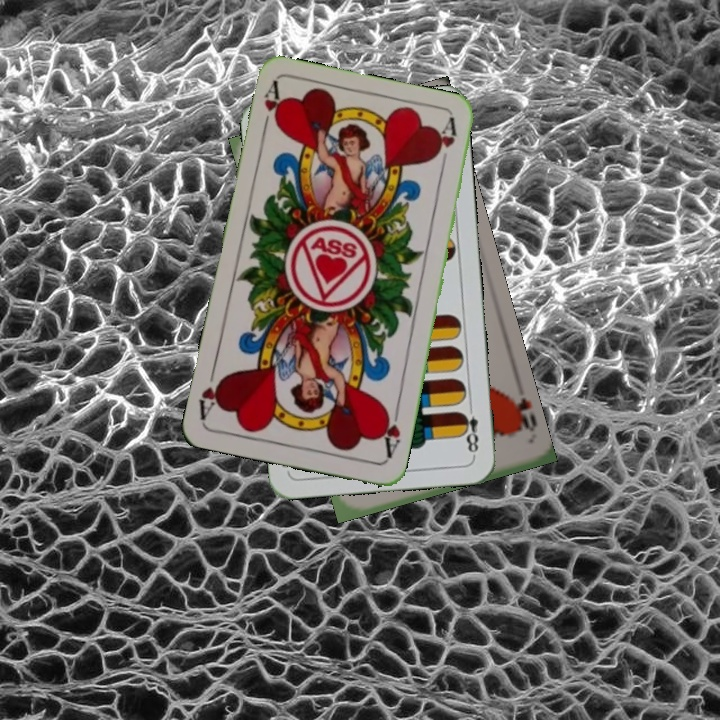E8: (457, 399, 481, 458)
HA: (258, 79, 287, 138), (376, 402, 403, 461)
HO: (502, 390, 539, 435)
